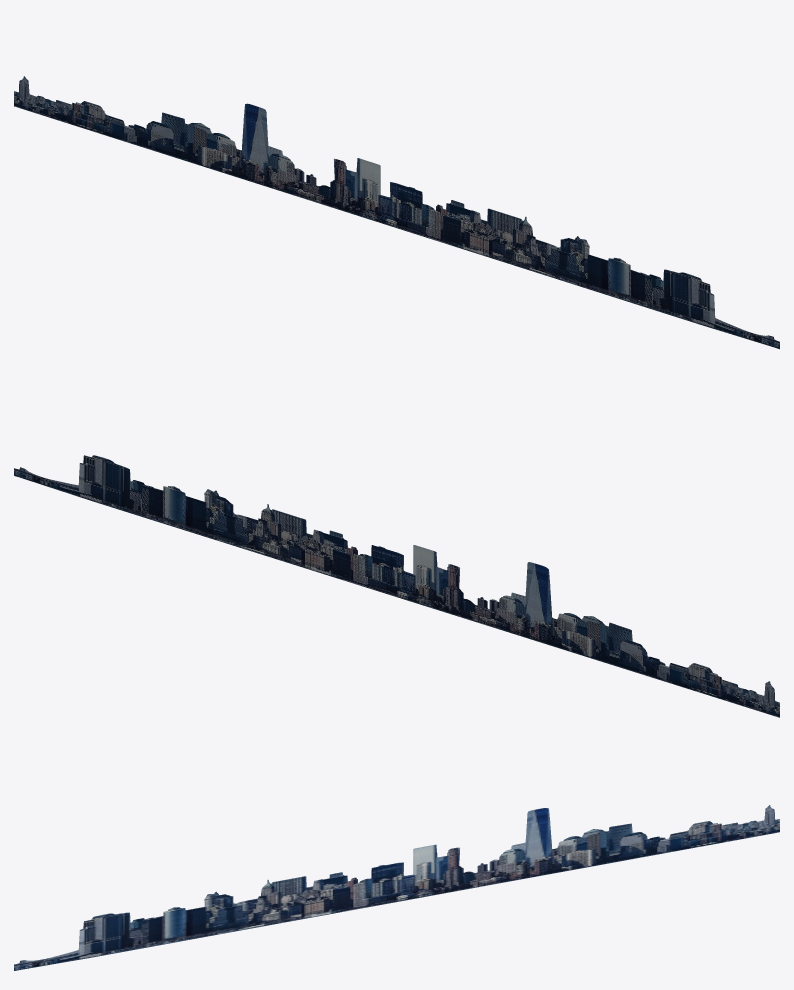
3 renders of one model, top to bottom at view 1: azimuth 30°, elevation 25°; view 2: azimuth 210°, elevation 25°; view 3: azimuth 270°, elevation 25°, orthographic. The views are drawn at different scales.
Visible parts, largest first — view 1: Line001; view 2: Line001; view 3: Line001.
Part boxes in pixels (x1=…): Line001: x1=14, y1=76, x2=779, y2=349; Line001: x1=14, y1=455, x2=779, y2=717; Line001: x1=14, y1=805, x2=779, y2=970.
Bounding box in the file's own units: 38268 × 89470 × 11005.
Materials: 1 (1 with a texture image).
